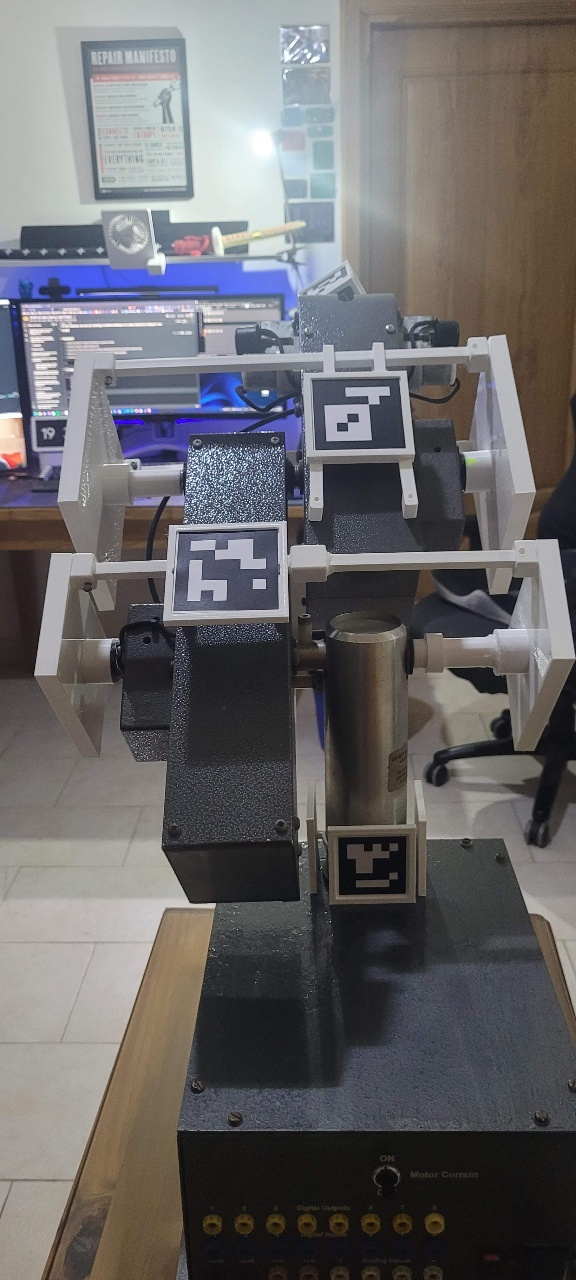Robot: (30, 259, 576, 909)
